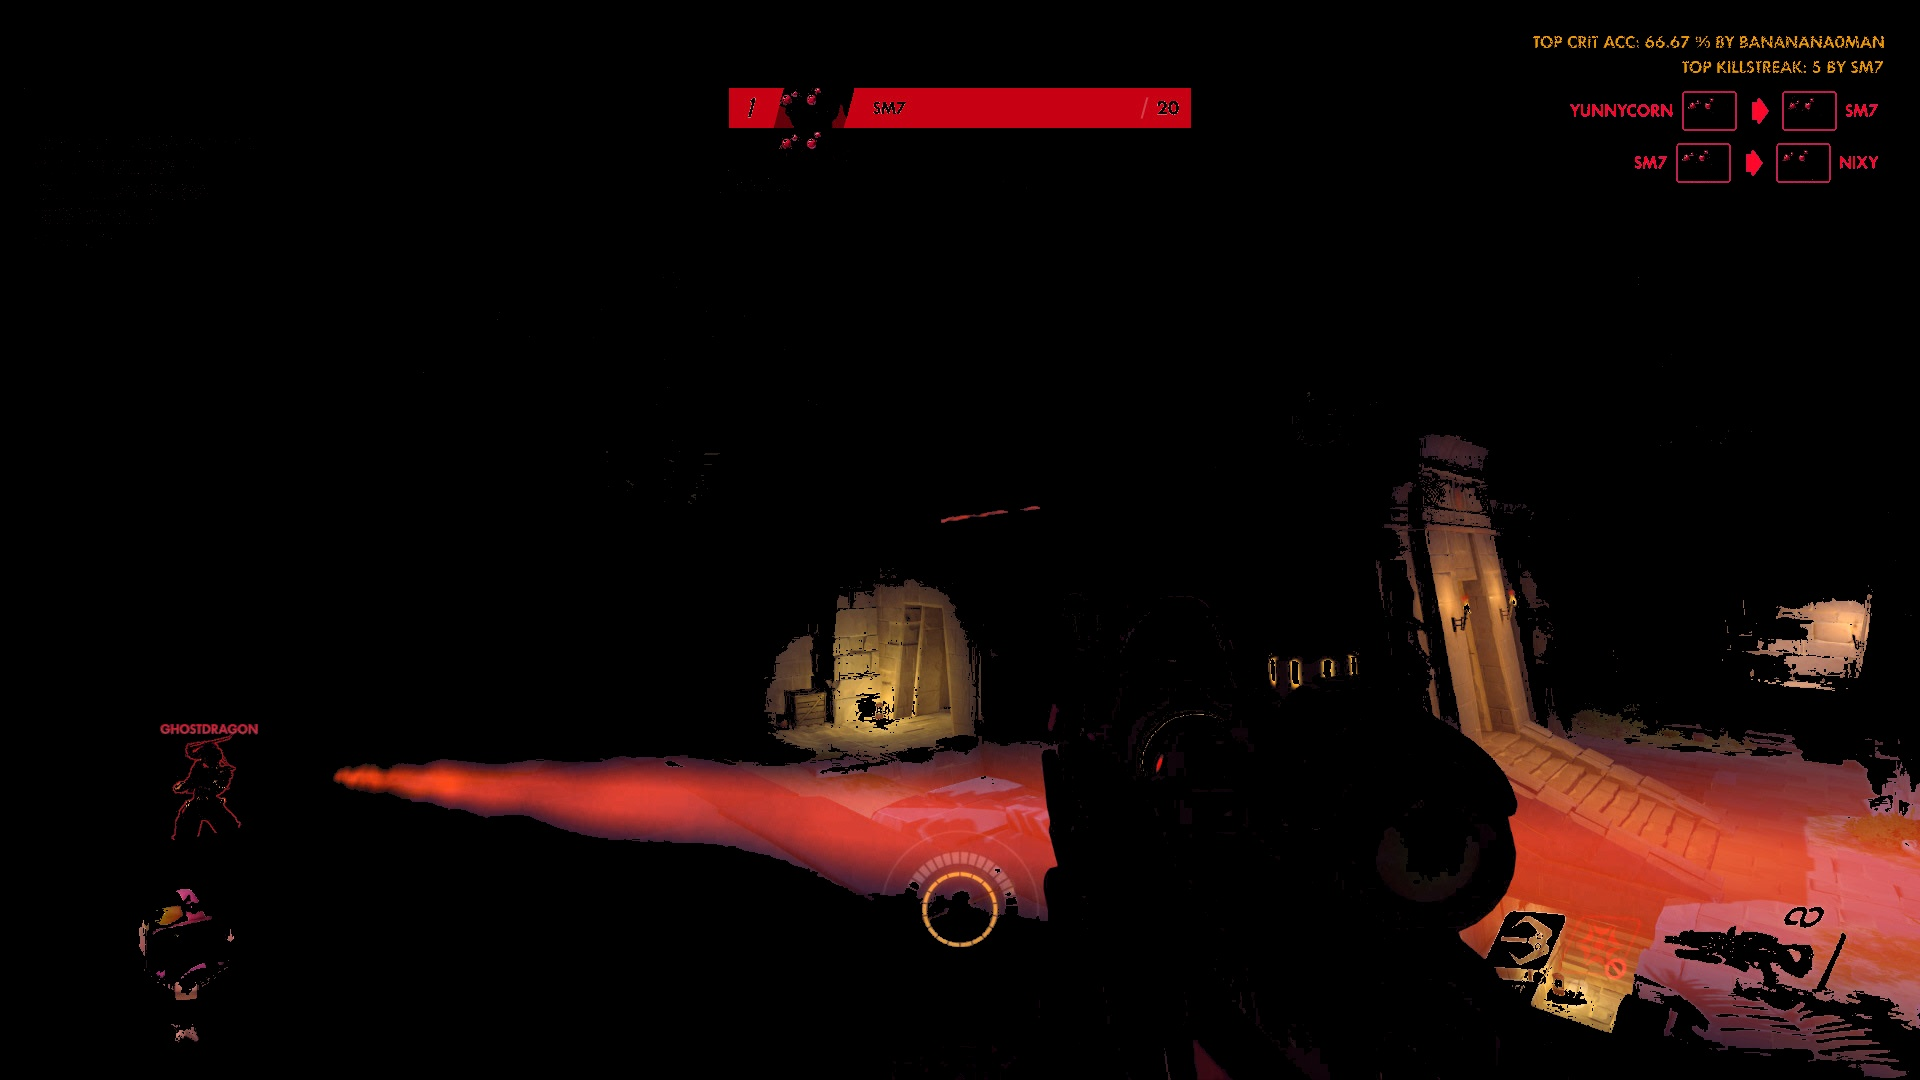widowmaker: (174, 736, 244, 837)
